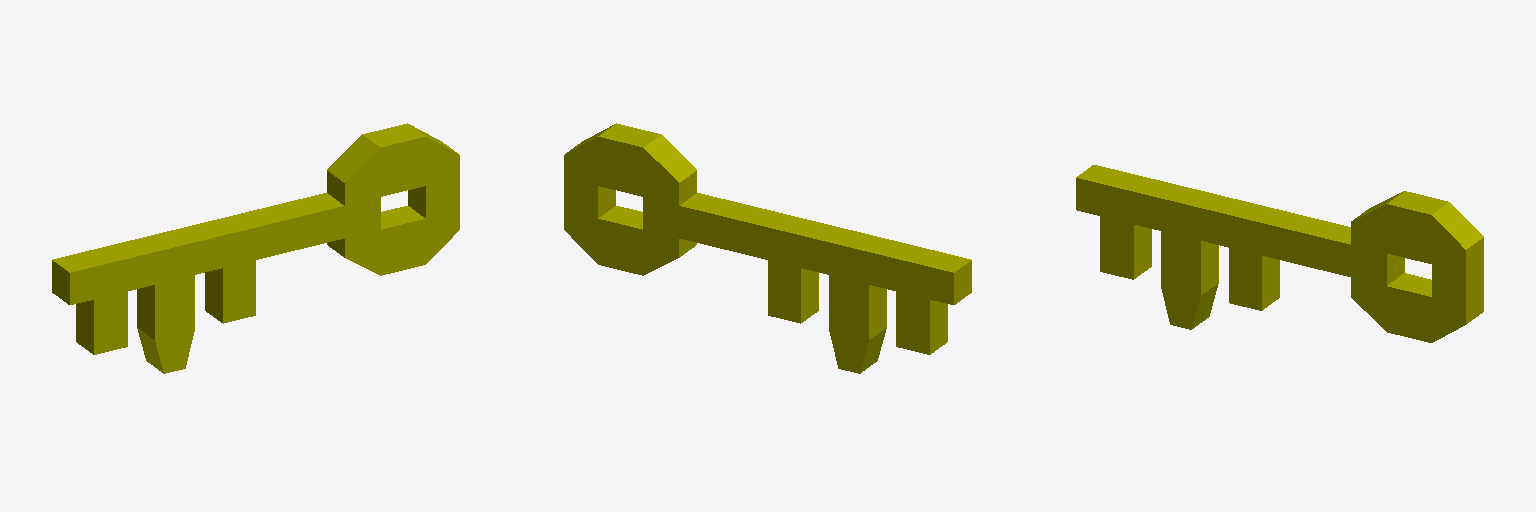
Rendered from key_2.obj.
3 views of the same model, side by side, from view 1: azimuth 30°, elevation 25°; view 2: azimuth 150°, elevation 25°; view 3: azimuth 330°, elevation 25° (orthographic).
Parts seen in each view (by area): view 1: simpleKey.001; view 2: simpleKey.001; view 3: simpleKey.001.
Part boxes in pixels (left/top/right/bottom): simpleKey.001: left=52, top=123, right=459, bottom=373; simpleKey.001: left=564, top=123, right=971, bottom=373; simpleKey.001: left=1076, top=165, right=1483, bottom=342.
Bounding box in the file's own units: 1.25 × 0.5314 × 0.1.